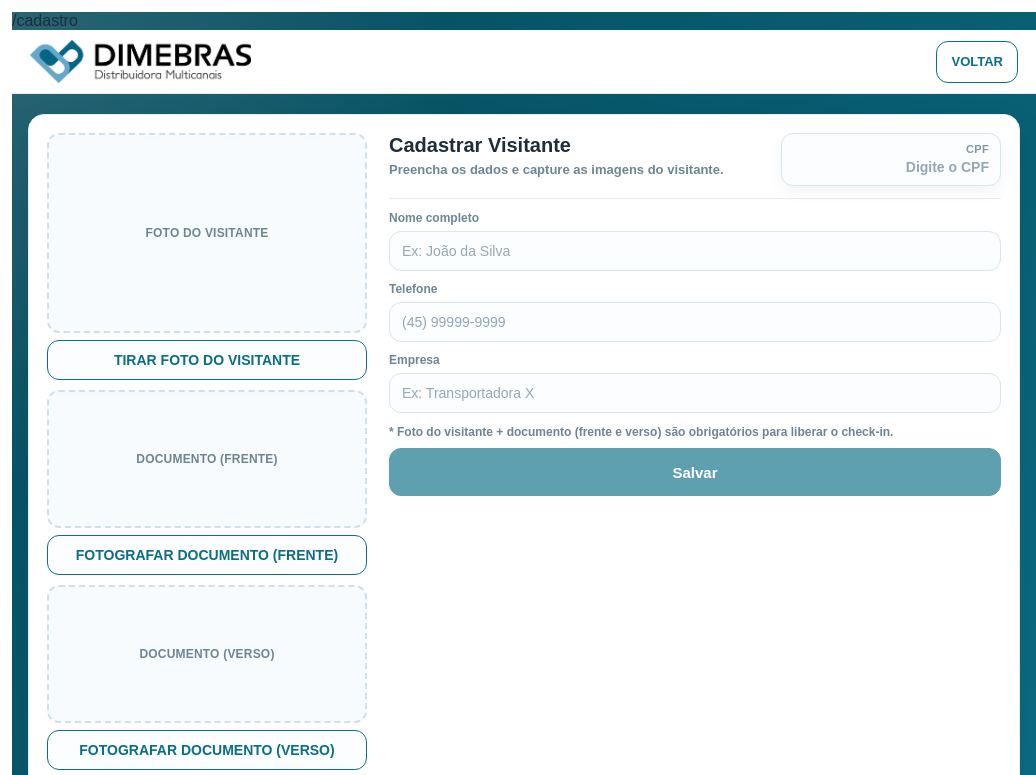
CadastroVisitante CPF feedback › diferencia mensagens obrigatorias e curtas apos submit
The width and height of the screenshot is (1036, 775).
Type "52998224725" into the field labelled "CPF".
click(891, 167); type("52998224725")  # box [793,159,989,175]
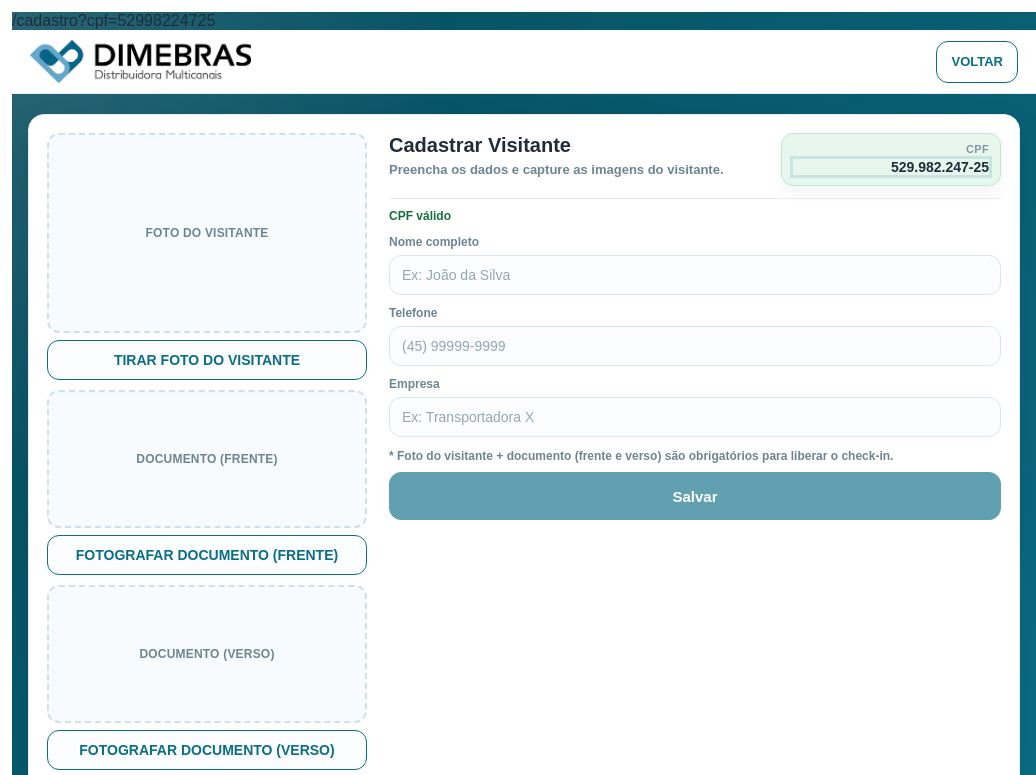
Type "Ma" into the field labelled "Nome completo".
click(695, 275); type("Ma")  # box [389,255,1001,295]
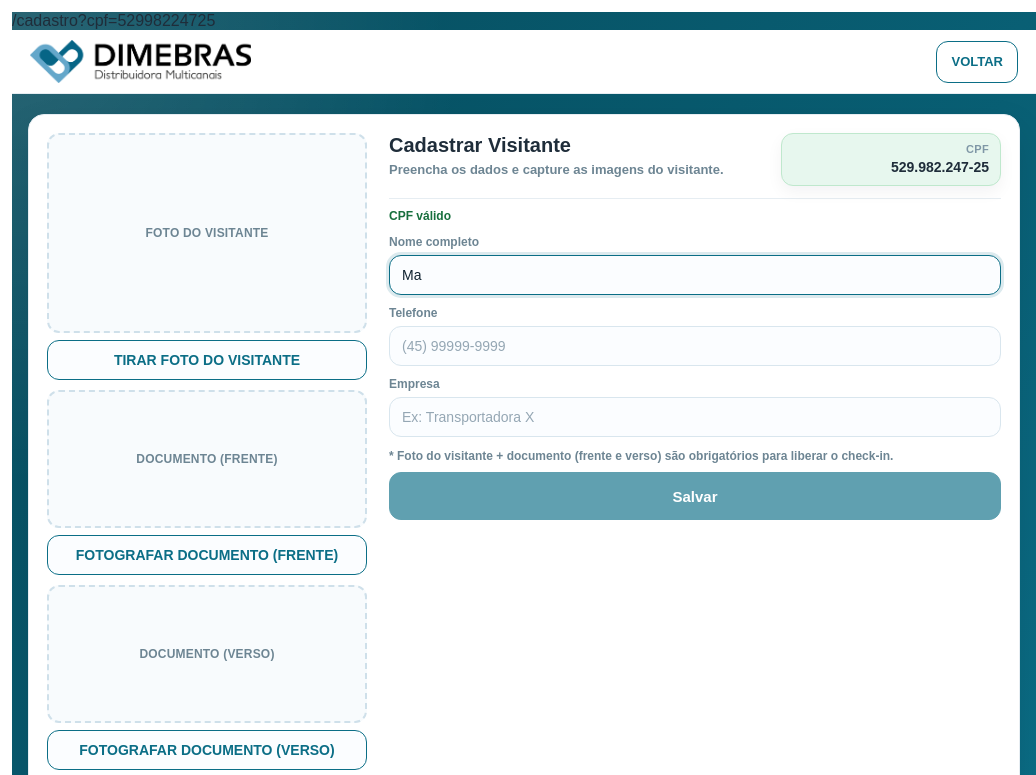
Type "45" into the field labelled "Telefone".
click(695, 346); type("45")  # box [389,326,1001,366]
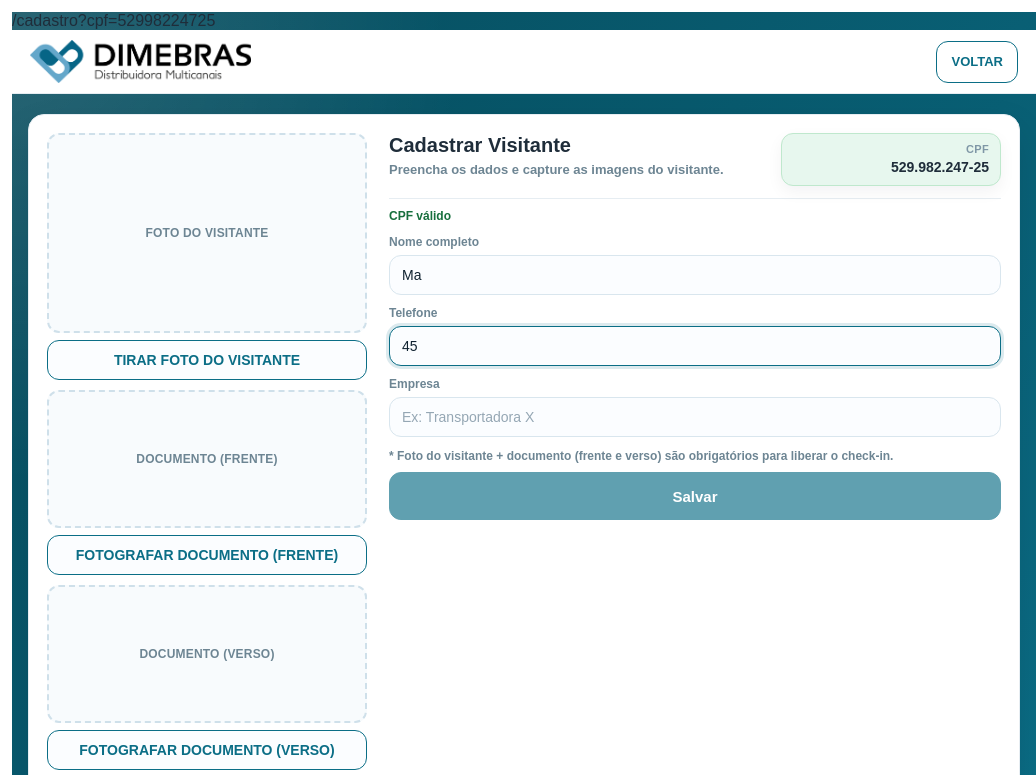
Type "D" into the field labelled "Empresa".
click(695, 417); type("D")  # box [389,397,1001,437]
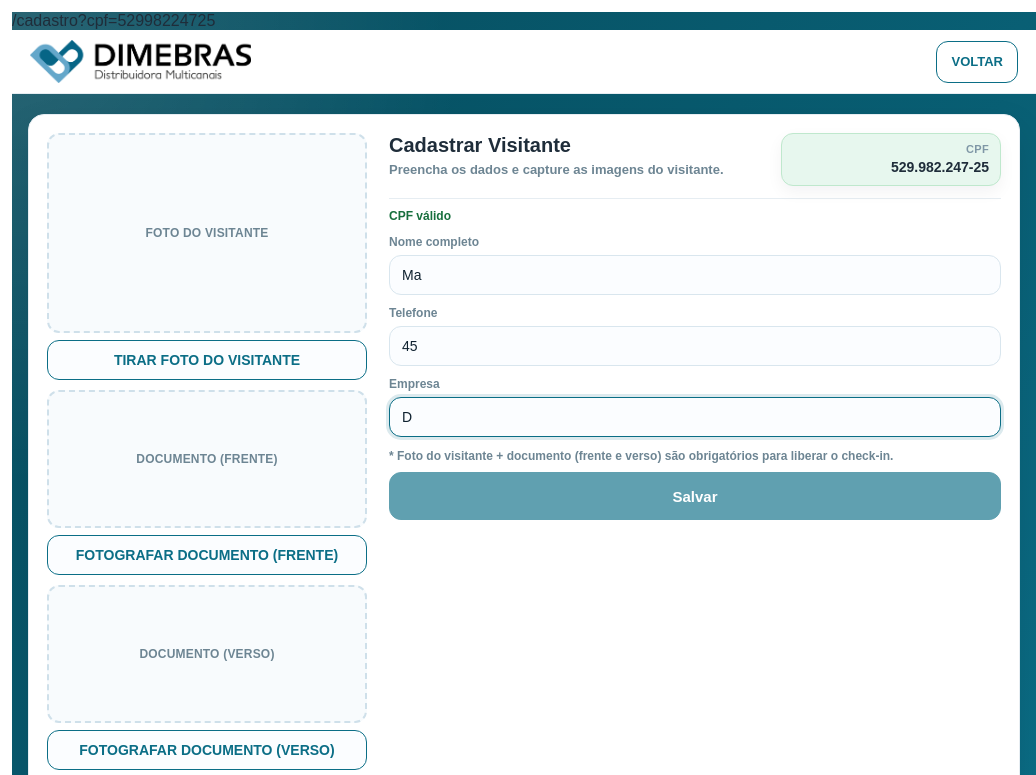
Click the field labelled "CPF".
click(891, 167)  # box [793,159,989,175]
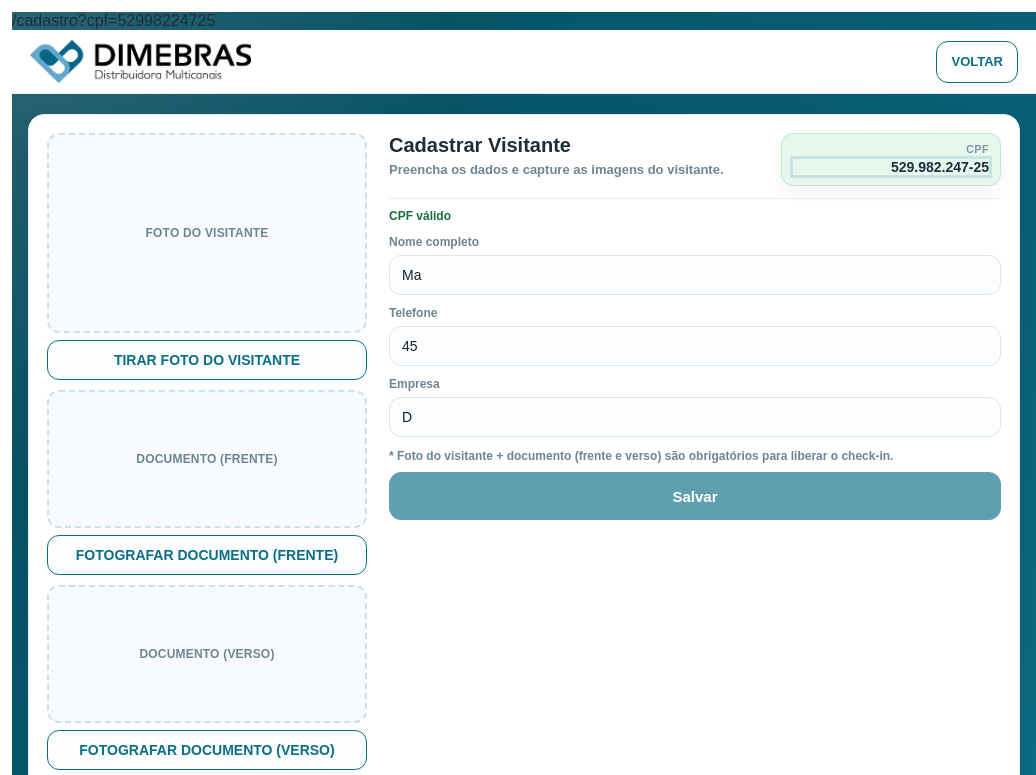
Press Enter
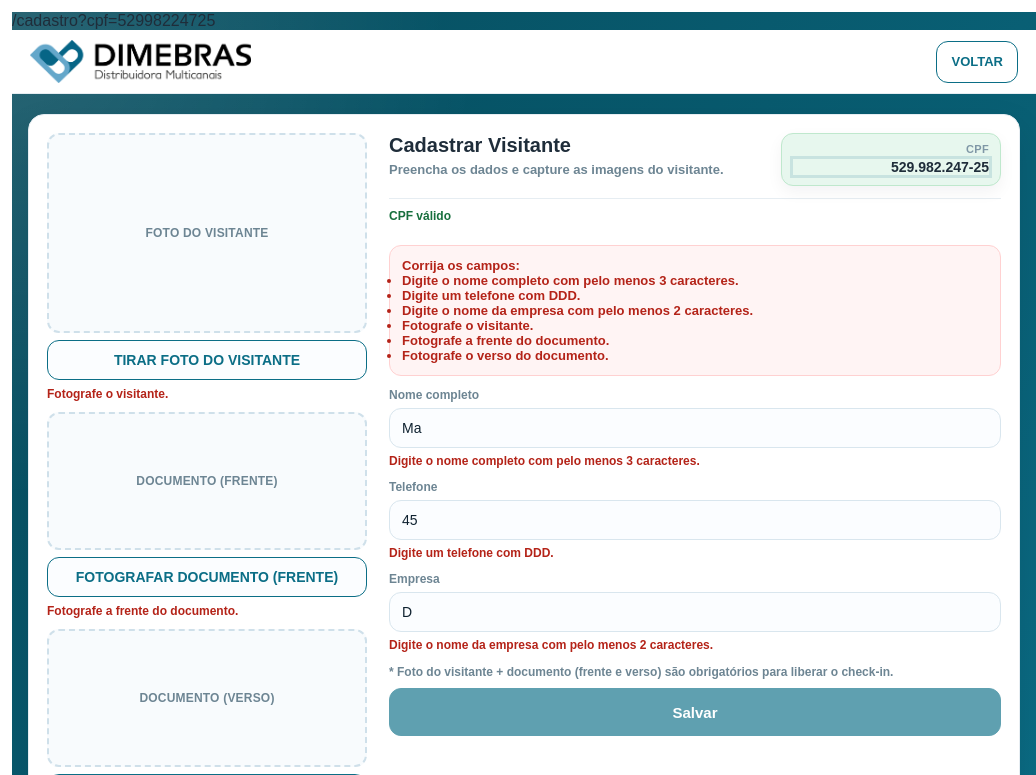
Result: the number of list items "Digite o nome completo com pelo menos 3 caracteres." is 2 at [402,273,739,288]; [389,454,700,468]
Result: the number of list items "Digite um telefone com DDD." is 2 at [402,288,580,303]; [389,546,554,560]
Result: the number of list items "Digite o nome da empresa com pelo menos 2 caracteres." is 2 at [402,303,753,318]; [389,638,713,652]
